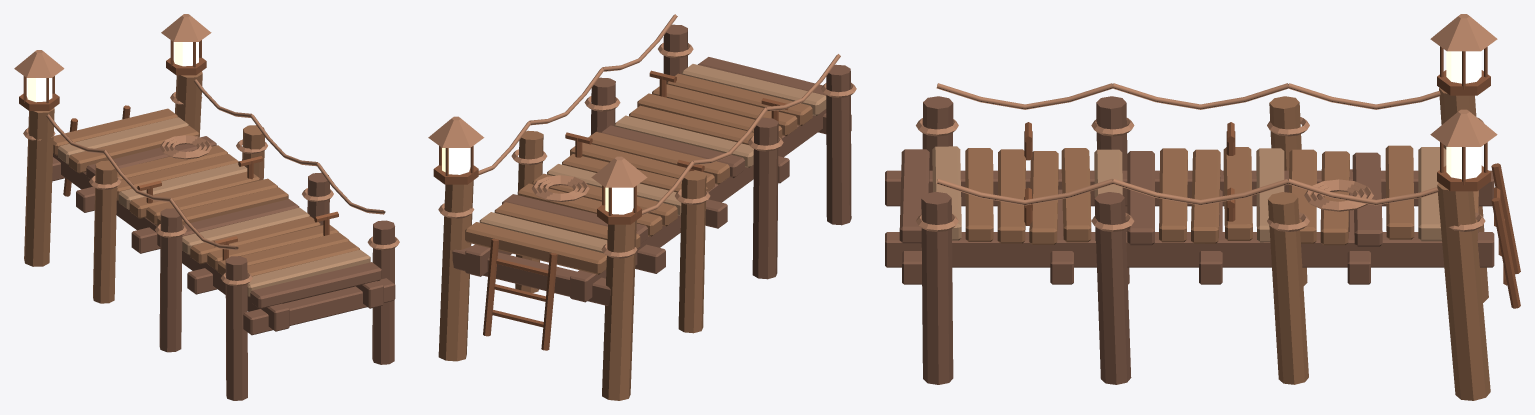
The model's file is harbor_pier.glb.
3 renders of one model, left to right at view 1: azimuth 30°, elevation 25°; view 2: azimuth 150°, elevation 25°; view 3: azimuth 270°, elevation 25°, orthographic. The views are drawn at different scales.
Parts seen in each view (by area): view 1: HarborPier_Wood, HarborPier_WoodWet, HarborPier_Rust, HarborPier_WoodSunworn, HarborPier_DeepRust, HarborPier_LanternGlow; view 2: HarborPier_Wood, HarborPier_WoodWet, HarborPier_Rust, HarborPier_WoodSunworn, HarborPier_DeepRust, HarborPier_LanternGlow; view 3: HarborPier_Wood, HarborPier_WoodWet, HarborPier_Rust, HarborPier_WoodSunworn, HarborPier_DeepRust, HarborPier_LanternGlow.
Part boxes in pixels (x1,y1,x2,y2): HarborPier_Wood: (24, 71, 359, 303); HarborPier_WoodWet: (52, 136, 395, 400); HarborPier_Rust: (14, 14, 399, 286); HarborPier_WoodSunworn: (58, 117, 370, 296); HarborPier_DeepRust: (19, 40, 338, 260); HarborPier_LanternGlow: (26, 42, 198, 102); HarborPier_Wood: (438, 73, 812, 400); HarborPier_WoodWet: (452, 24, 851, 305); HarborPier_Rust: (428, 14, 856, 258); HarborPier_WoodSunworn: (479, 64, 826, 253); HarborPier_DeepRust: (433, 70, 788, 350); HarborPier_LanternGlow: (442, 148, 633, 214); HarborPier_Wood: (965, 88, 1490, 400); HarborPier_WoodWet: (885, 96, 1494, 384); HarborPier_Rust: (916, 14, 1497, 231); HarborPier_WoodSunworn: (932, 146, 1446, 242); HarborPier_DeepRust: (1024, 46, 1520, 308); HarborPier_LanternGlow: (1446, 51, 1481, 179).
Bounding box in the file's own units: 1.69 × 1.85 × 3.77.
